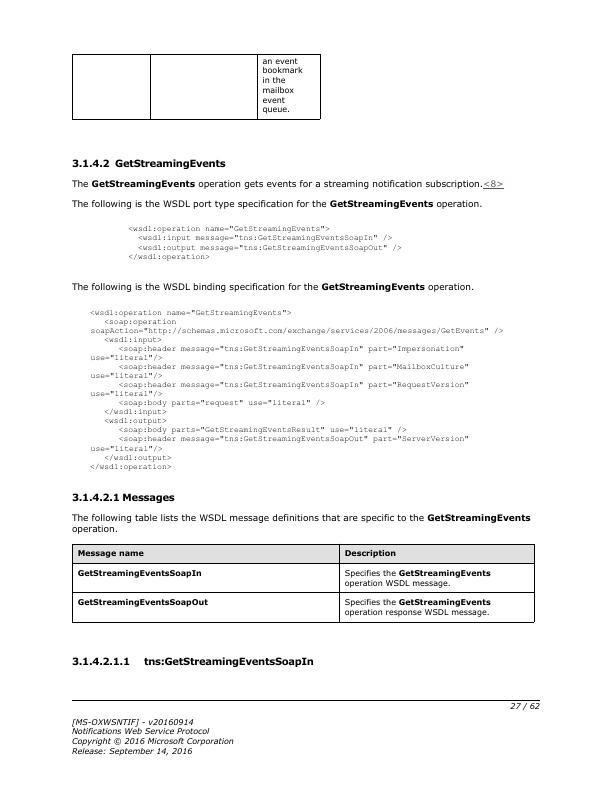table: (68, 542, 540, 626), (68, 50, 324, 125)
text: (83, 307, 504, 473), (71, 510, 530, 536), (124, 222, 404, 263), (66, 714, 239, 758), (66, 197, 484, 212), (67, 179, 517, 192), (66, 279, 476, 293), (68, 654, 314, 669), (68, 155, 228, 170), (67, 491, 174, 505)
